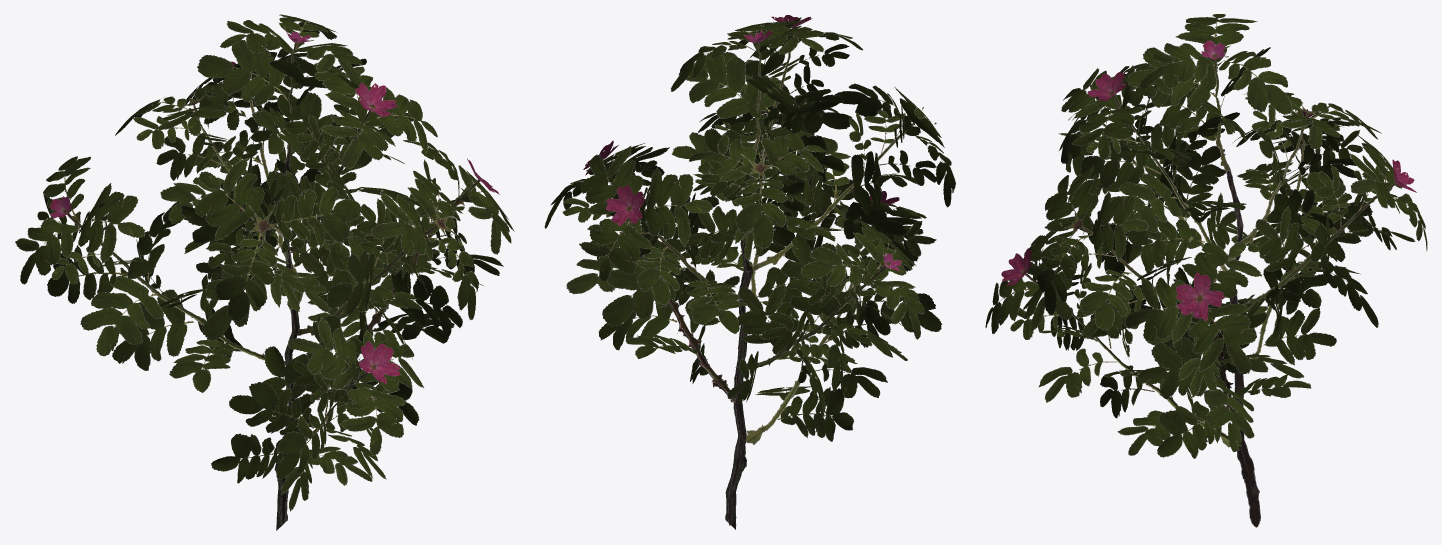
File: RoseHipBushHighDetail.fbx
3 renders of one model, left to right at view 1: azimuth 30°, elevation 25°; view 2: azimuth 150°, elevation 25°; view 3: azimuth 270°, elevation 25°, orthographic. The views are drawn at different scales.
Parts seen in each view (by area): view 1: _9oos_VarA_LOD3; view 2: _9oos_VarA_LOD3; view 3: _9oos_VarA_LOD3.
Boxes of the visible parts, left/top/right/bottom form: _9oos_VarA_LOD3: left=15, top=14, right=514, bottom=530; _9oos_VarA_LOD3: left=544, top=15, right=955, bottom=529; _9oos_VarA_LOD3: left=985, top=14, right=1427, bottom=527.
Bounding box in the file's own units: 111 × 128 × 105.
